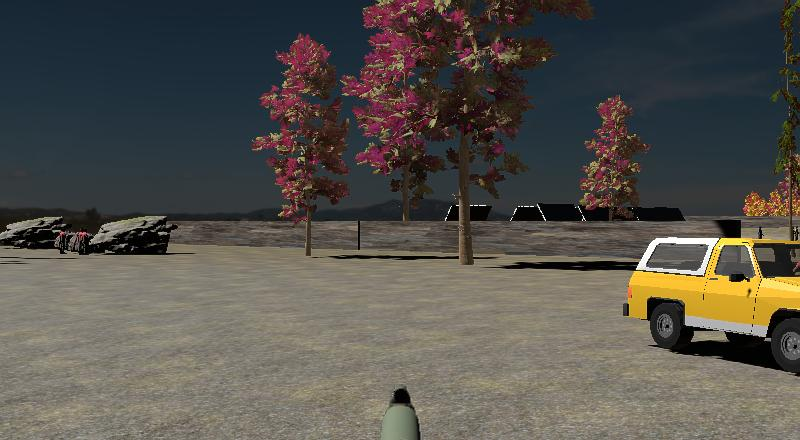car: (620, 232, 800, 369), (507, 197, 590, 224)
